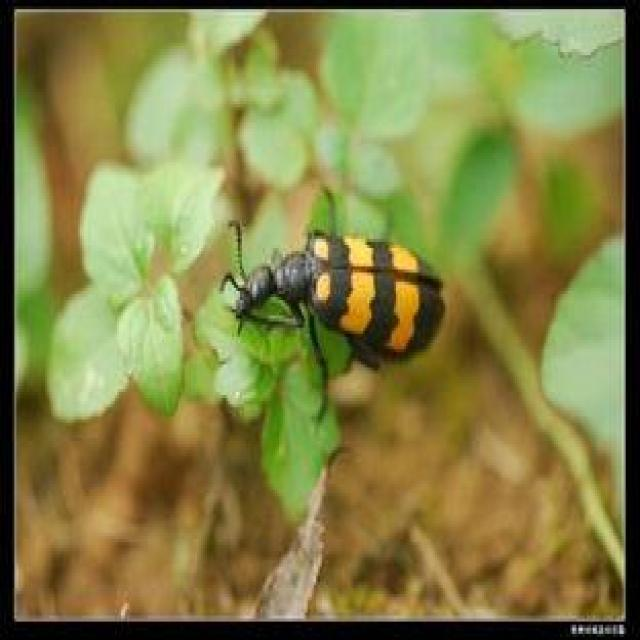BlisterBeetle-Adult-: (190, 166, 453, 406)
